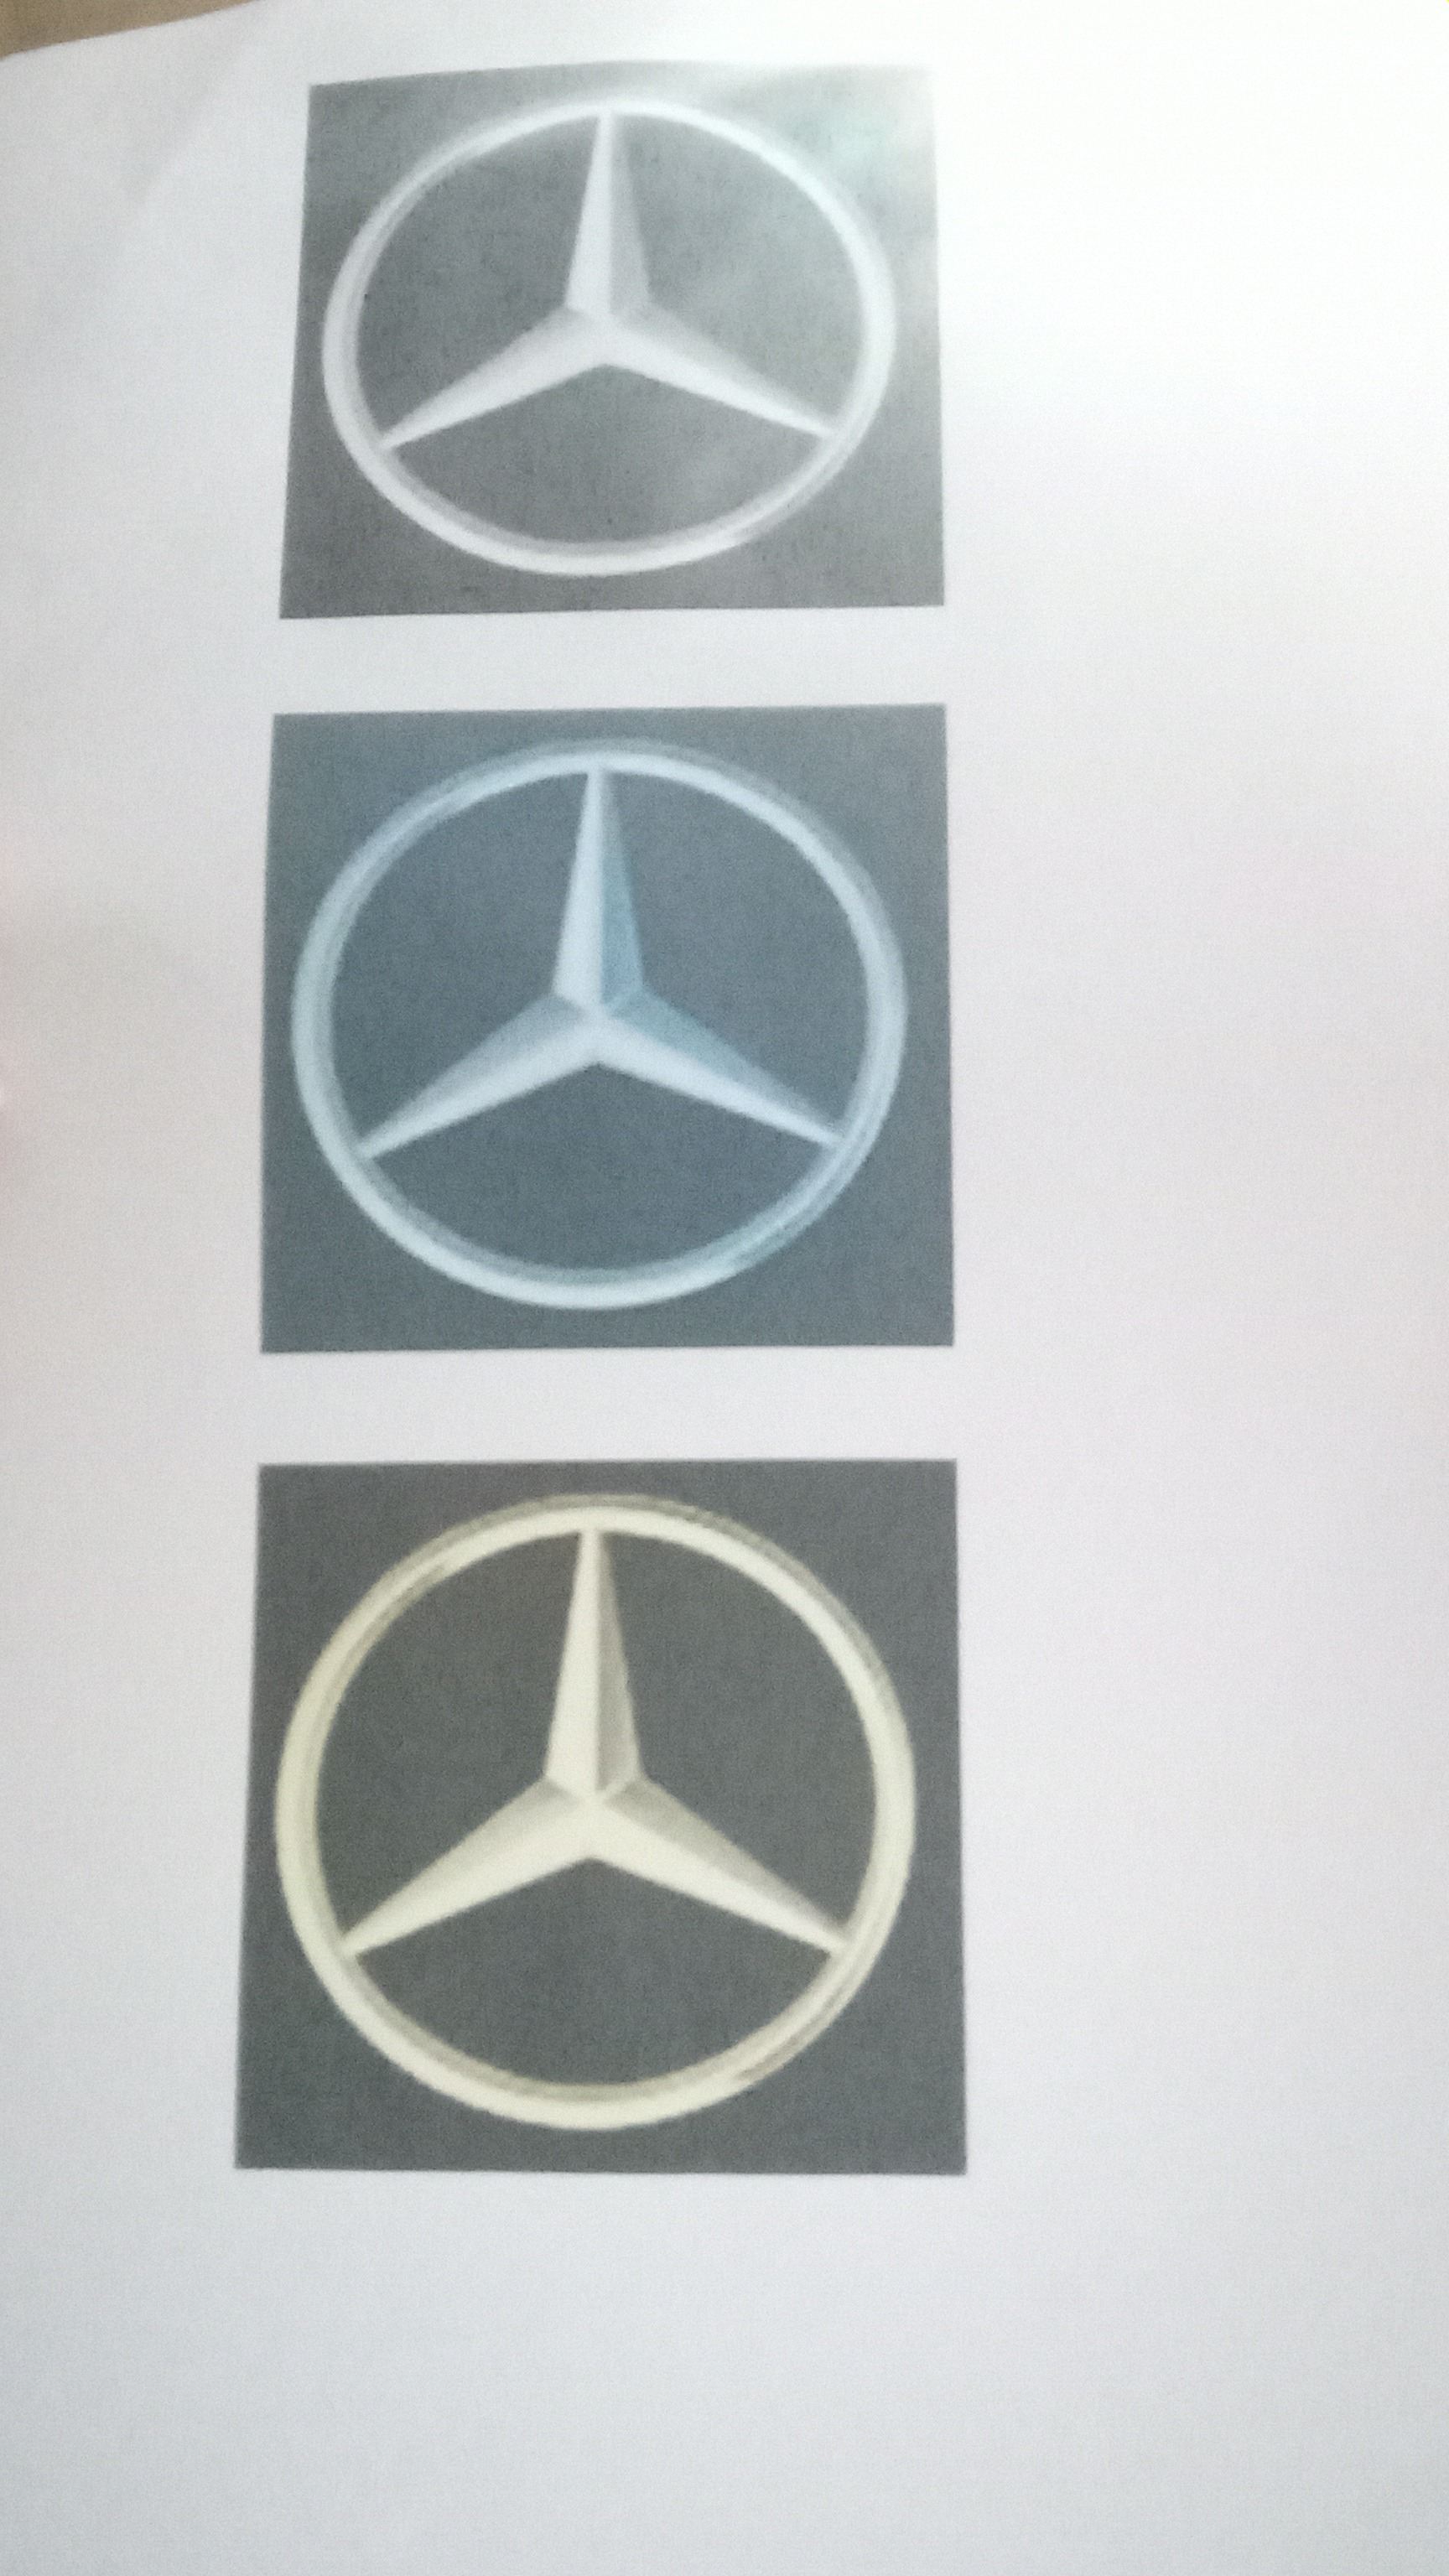Mercedes: (264, 1474, 952, 2176), (281, 720, 941, 1352), (301, 80, 908, 602)
